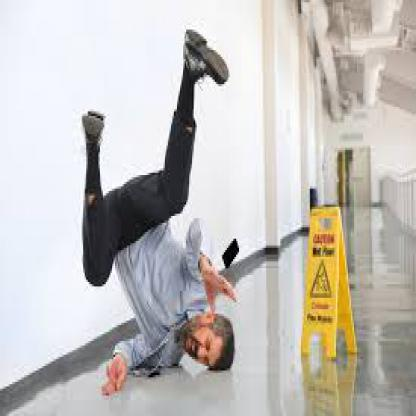Fall_Down: (80, 25, 241, 398)
